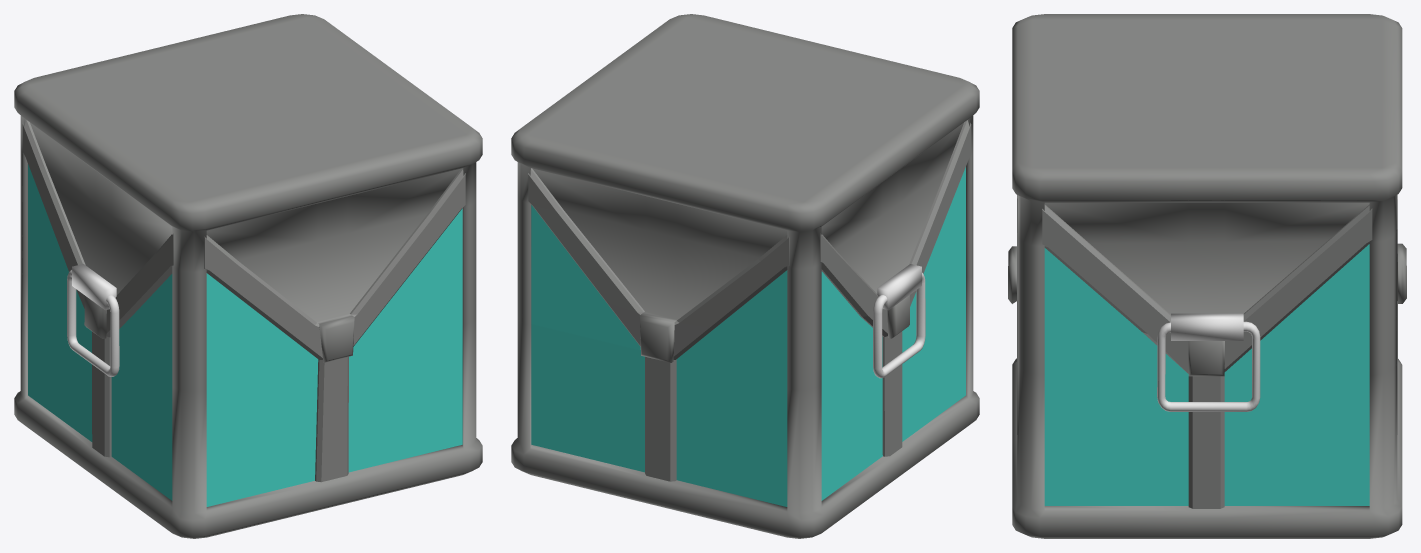
The model's file is Caisse_Usine_Poignee.fbx.
3 renders of one model, left to right at view 1: azimuth 30°, elevation 25°; view 2: azimuth 150°, elevation 25°; view 3: azimuth 270°, elevation 25°, orthographic. The views are drawn at different scales.
Visible parts, largest first — view 1: CaisseUsine_LOW; view 2: CaisseUsine_LOW; view 3: CaisseUsine_LOW.
Boxes of the visible parts, bbox=[...] form: CaisseUsine_LOW: bbox=[14, 14, 482, 538]; CaisseUsine_LOW: bbox=[511, 14, 979, 538]; CaisseUsine_LOW: bbox=[1008, 14, 1406, 538].
Bounding box in the file's own units: 104 × 103 × 102.
